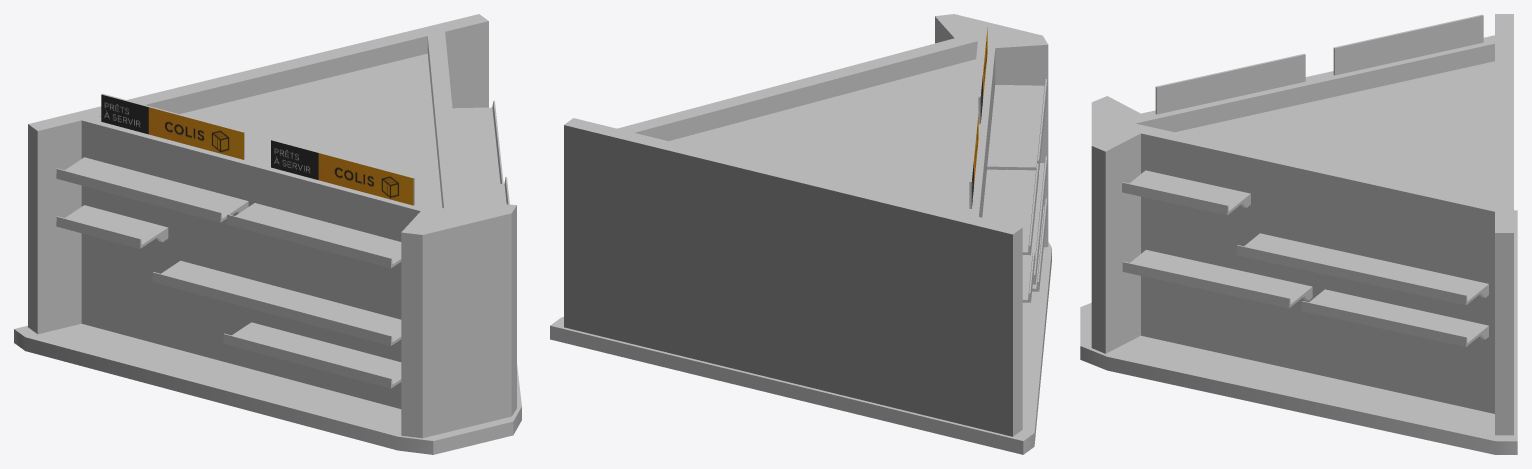
Rendered from display02.FBX.
3 views of the same model, side by side, from view 1: azimuth 30°, elevation 25°; view 2: azimuth 150°, elevation 25°; view 3: azimuth 270°, elevation 25° (orthographic).
Parts seen in each view (by area): view 1: display02; view 2: display02; view 3: display02.
Part boxes in pixels (x1,y1,x2,y2): display02: (14,14,521,454); display02: (550,14,1051,454); display02: (1080,14,1517,454).
Bounding box in the file's own units: 2.94 × 1.44 × 2.35.
